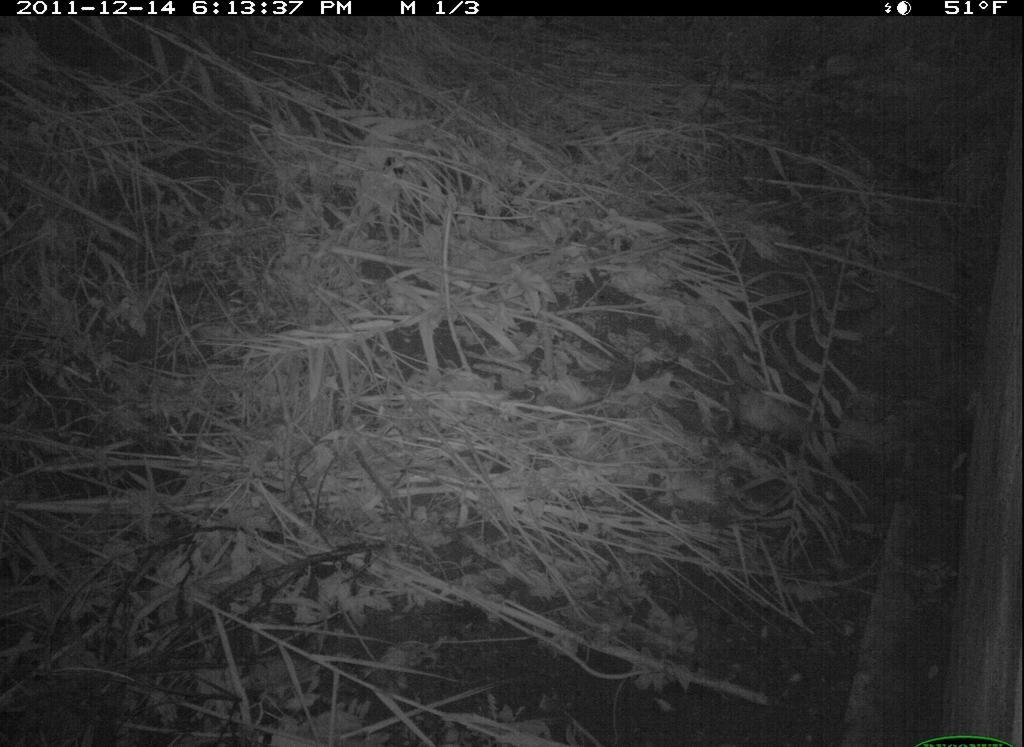opossum: (716, 381, 856, 449)
